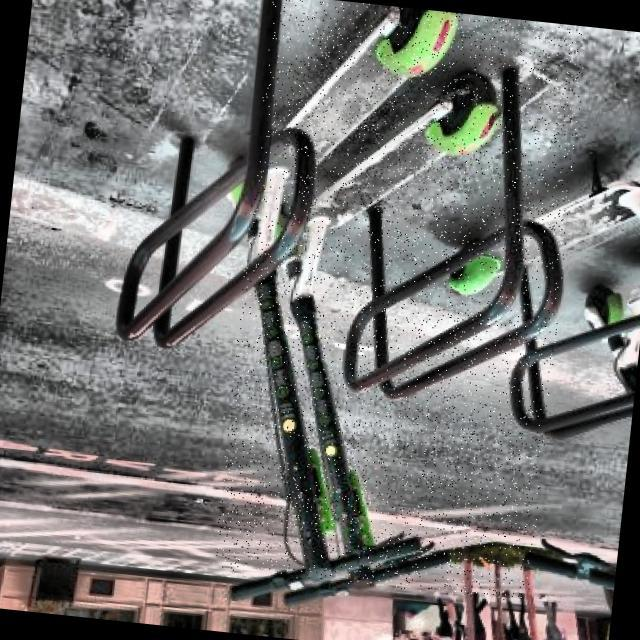bike: (116, 1, 640, 604)
